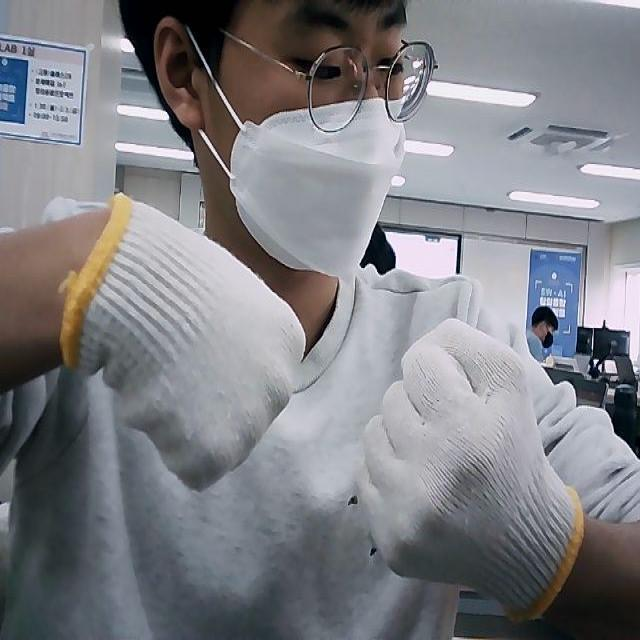gloves: (60, 192, 306, 487), (363, 320, 584, 622)
